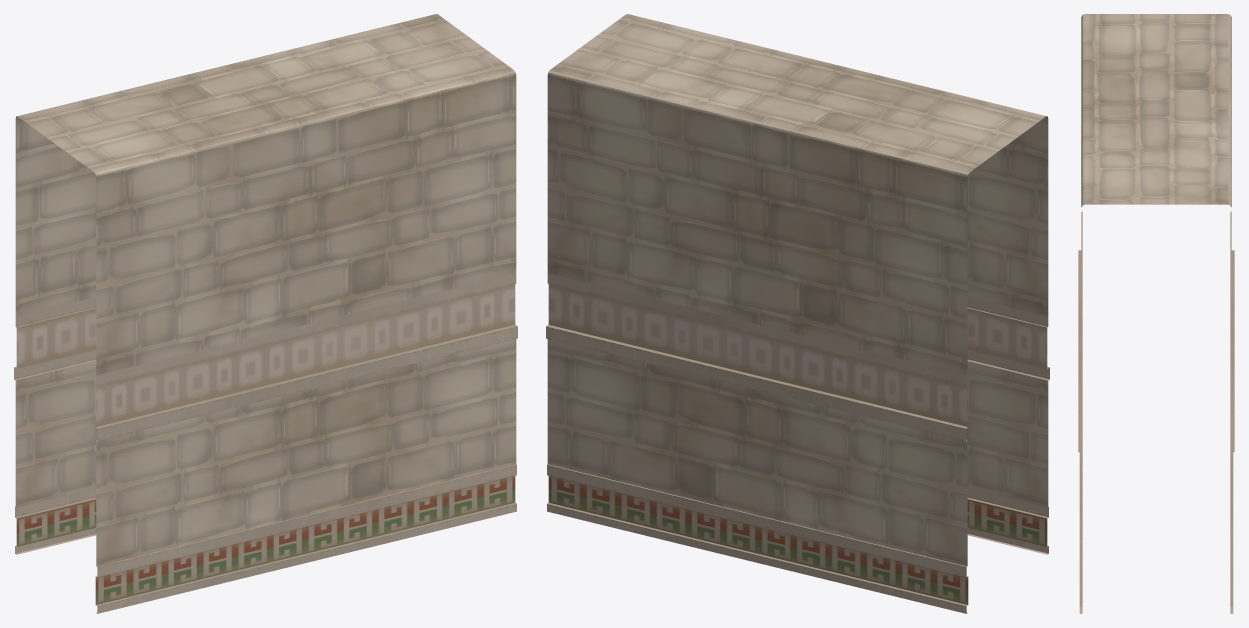
File: SM_Env_Wall_C.fbx
3 views of the same model, side by side, from view 1: azimuth 30°, elevation 25°; view 2: azimuth 150°, elevation 25°; view 3: azimuth 270°, elevation 25° (orthographic). The views are drawn at different scales.
Parts seen in each view (by area): view 1: Wall_C; view 2: Wall_C; view 3: Wall_C.
Part boxes in pixels (x1,y1,x2,y2): Wall_C: [14, 14, 517, 613]; Wall_C: [546, 14, 1049, 613]; Wall_C: [1078, 14, 1234, 613].
Size of the model in its own units: 300 by 300 by 104.
1 material, 1 textured.
